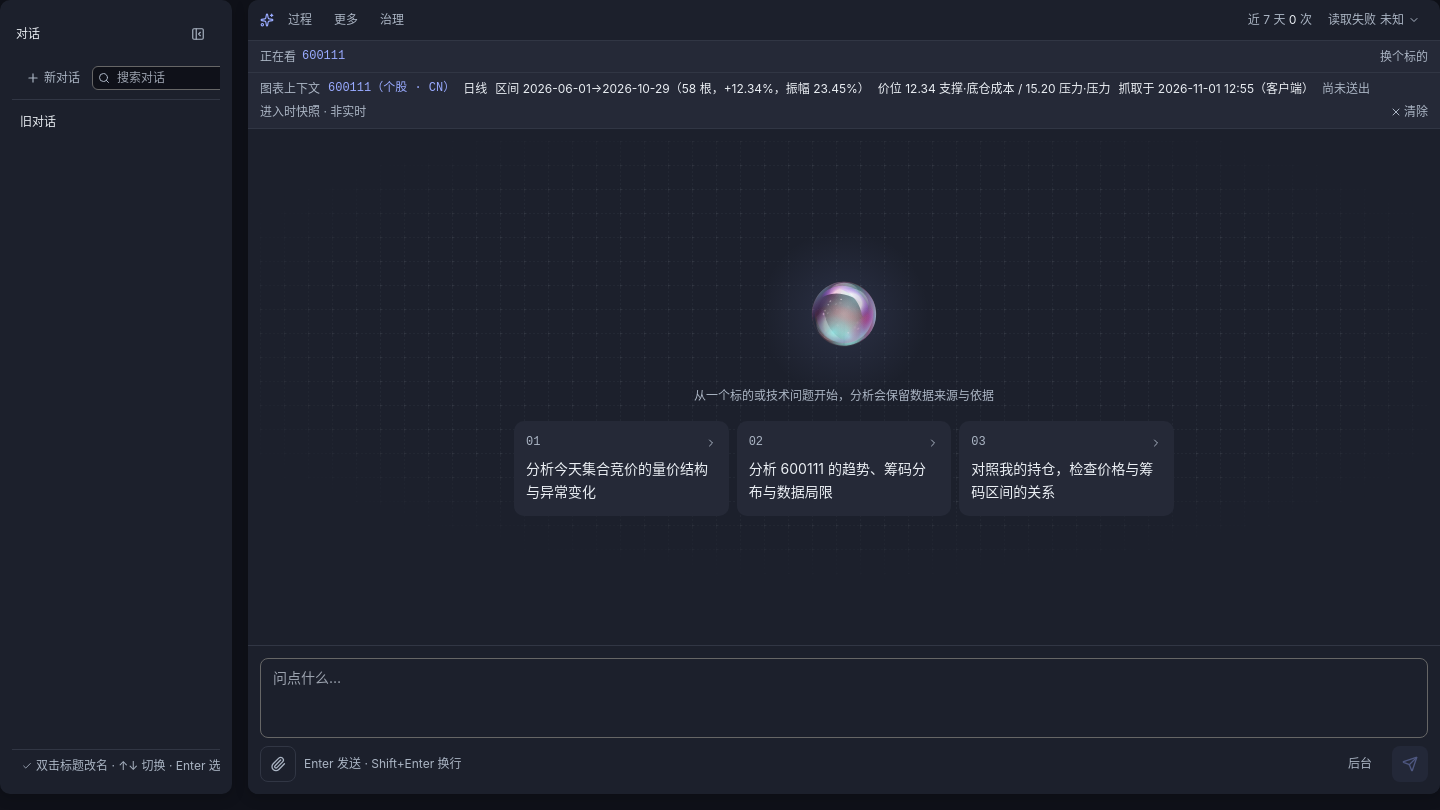
发问时才把上下文送进会话 › 切到历史会话 → 上下文不跟着串进别人的对话
The width and height of the screenshot is (1440, 810).
Expected: the element with test id "copilot-chart-context" is shown, [248,73,1439,129]
Click the button "旧对话" at point(126, 121), box [20,112,233,131]
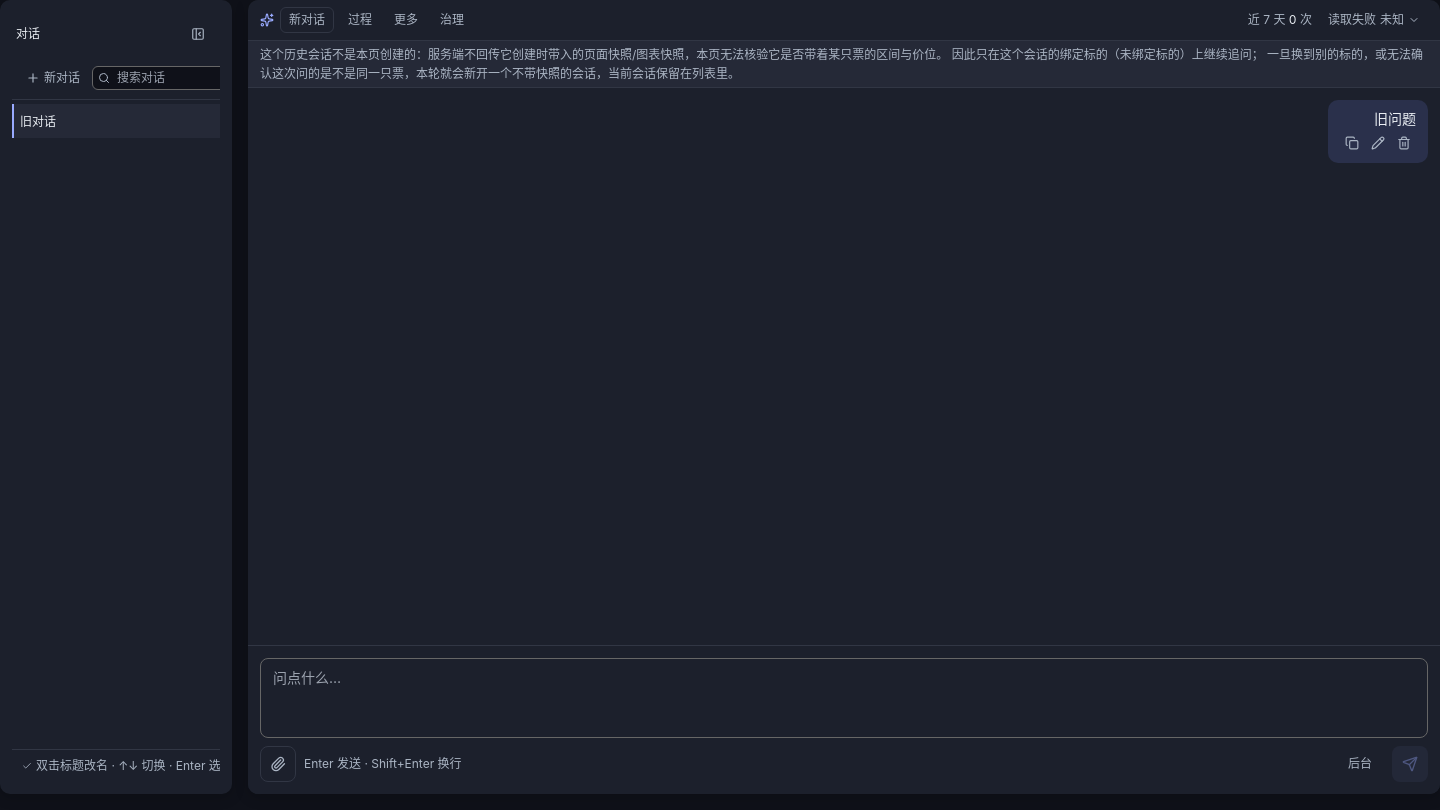
Expected: the element with test id "copilot-chart-context" is gone
